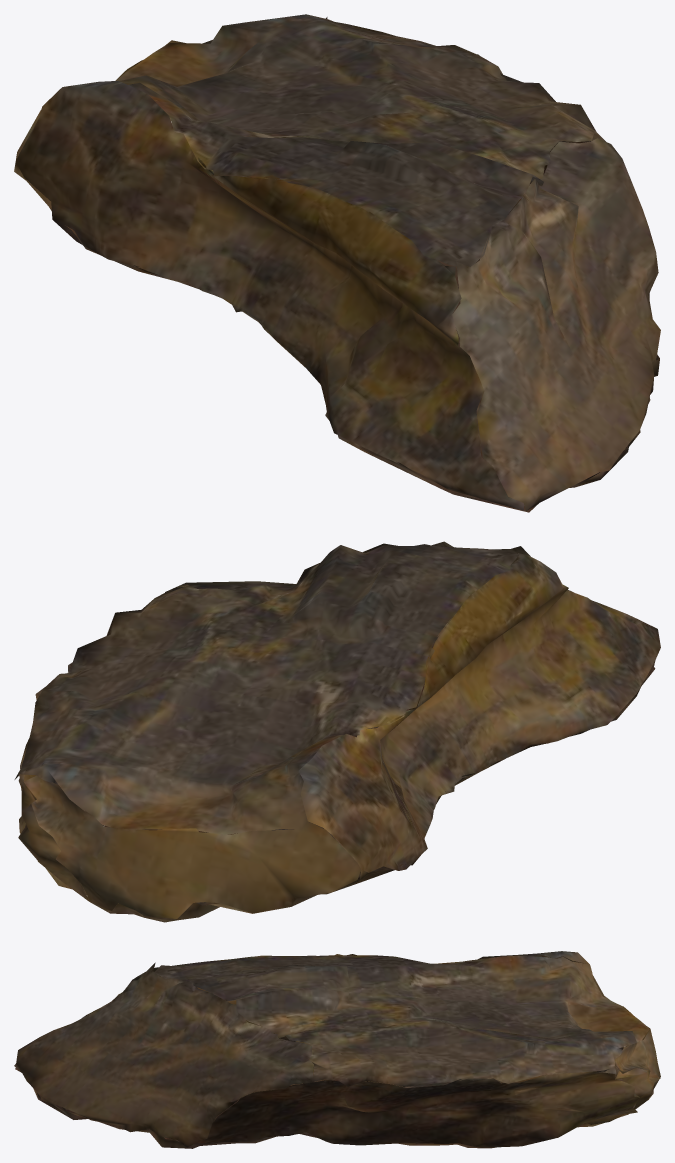
File: rock_b.glb
3 renders of one model, top to bottom at view 1: azimuth 30°, elevation 25°; view 2: azimuth 150°, elevation 25°; view 3: azimuth 270°, elevation 25°, orthographic. The views are drawn at different scales.
Visible parts, largest first — view 1: rock_b; view 2: rock_b; view 3: rock_b.
Part boxes in pixels (left/top/right/bottom): rock_b: left=14, top=14, right=660, bottom=512; rock_b: left=14, top=541, right=660, bottom=922; rock_b: left=14, top=951, right=660, bottom=1148.
Size of the model in its own units: 0.6151 by 0.2712 by 1.2.
1 material, 1 textured.
